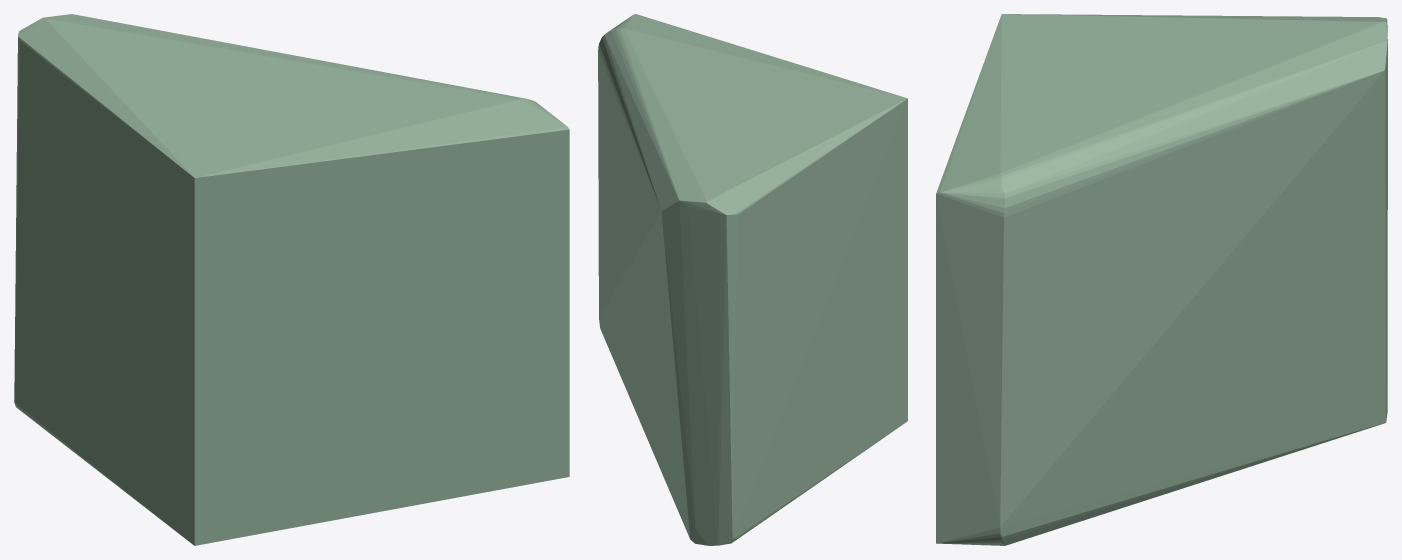
The model's file is screen_hospital_b07.glb.
The picture shows the model from 3 angles, left to right: view 1: azimuth 30°, elevation 25°; view 2: azimuth 150°, elevation 25°; view 3: azimuth 270°, elevation 25°; orthographic projection. The views are drawn at different scales.
Parts seen in each view (by area): view 1: geometry_0; view 2: geometry_0; view 3: geometry_0.
Part boxes in pixels (x1,y1,x2,y2): geometry_0: [14, 14, 569, 545]; geometry_0: [598, 14, 907, 545]; geometry_0: [936, 14, 1387, 545].
Bounding box in the file's own units: 0.4362 × 0.4631 × 0.4799.
